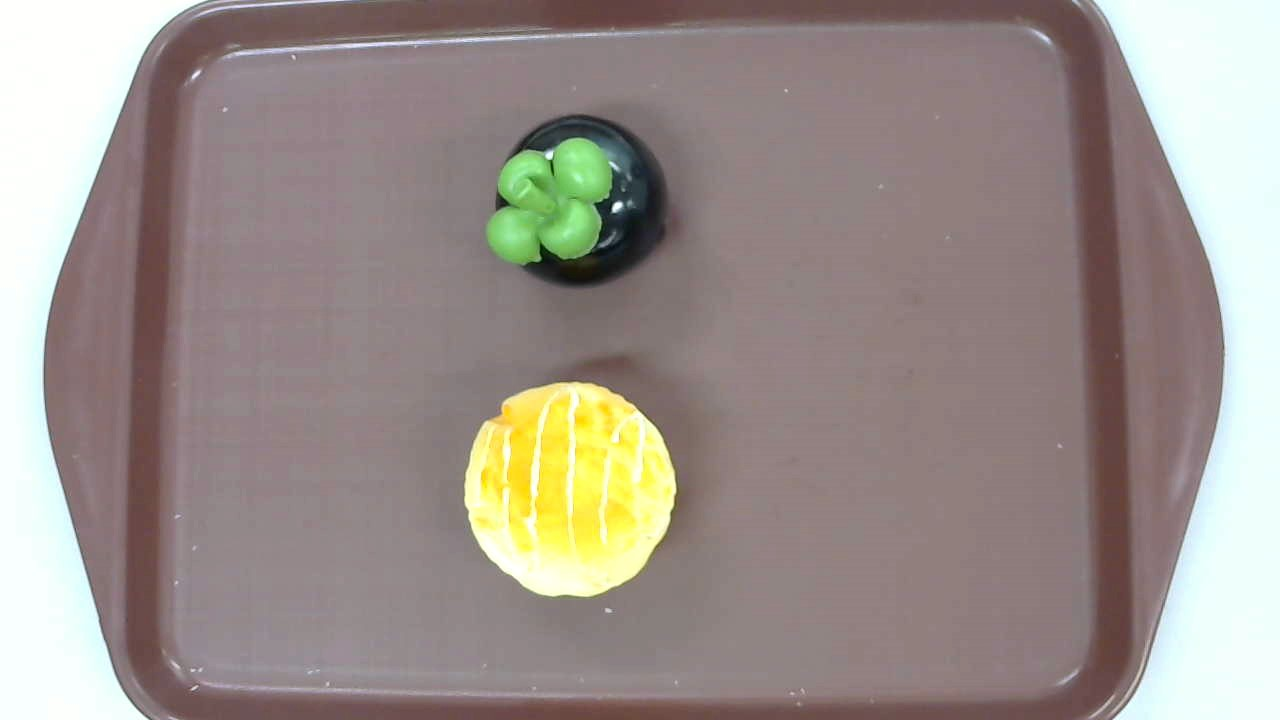cupcake: (464, 380, 676, 601)
mangosteen: (485, 112, 667, 288)
